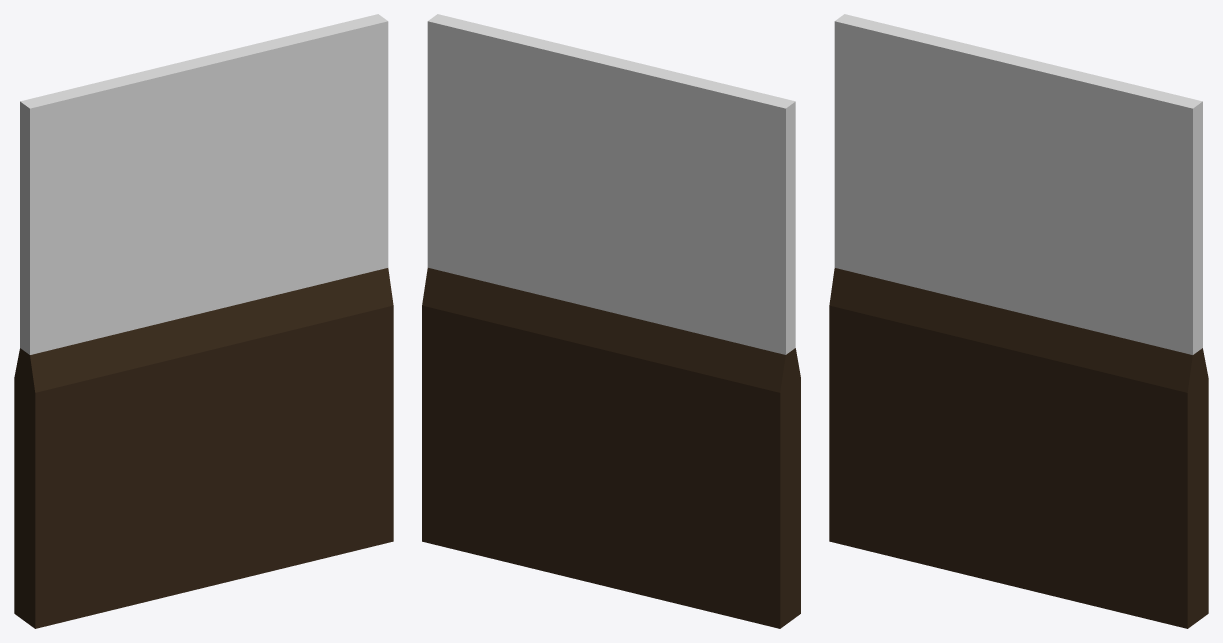
The model's file is wall_49.fbx.
3 views of the same model, side by side, from view 1: azimuth 30°, elevation 25°; view 2: azimuth 150°, elevation 25°; view 3: azimuth 330°, elevation 25° (orthographic).
Visible parts, largest first — view 1: WALL_7.001; view 2: WALL_7.001; view 3: WALL_7.001.
Part boxes in pixels (x1,y1,x2,y2): WALL_7.001: [14, 14, 393, 628]; WALL_7.001: [422, 14, 800, 628]; WALL_7.001: [829, 14, 1208, 628].
Bounding box in the file's own units: 3.52 × 4.85 × 0.355.
